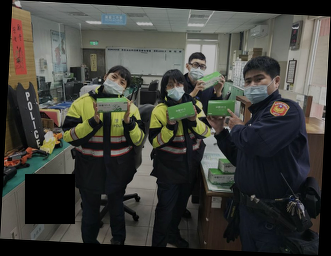with_mask: (242, 72, 274, 105), (102, 73, 127, 97), (165, 81, 186, 101), (188, 61, 207, 82)
